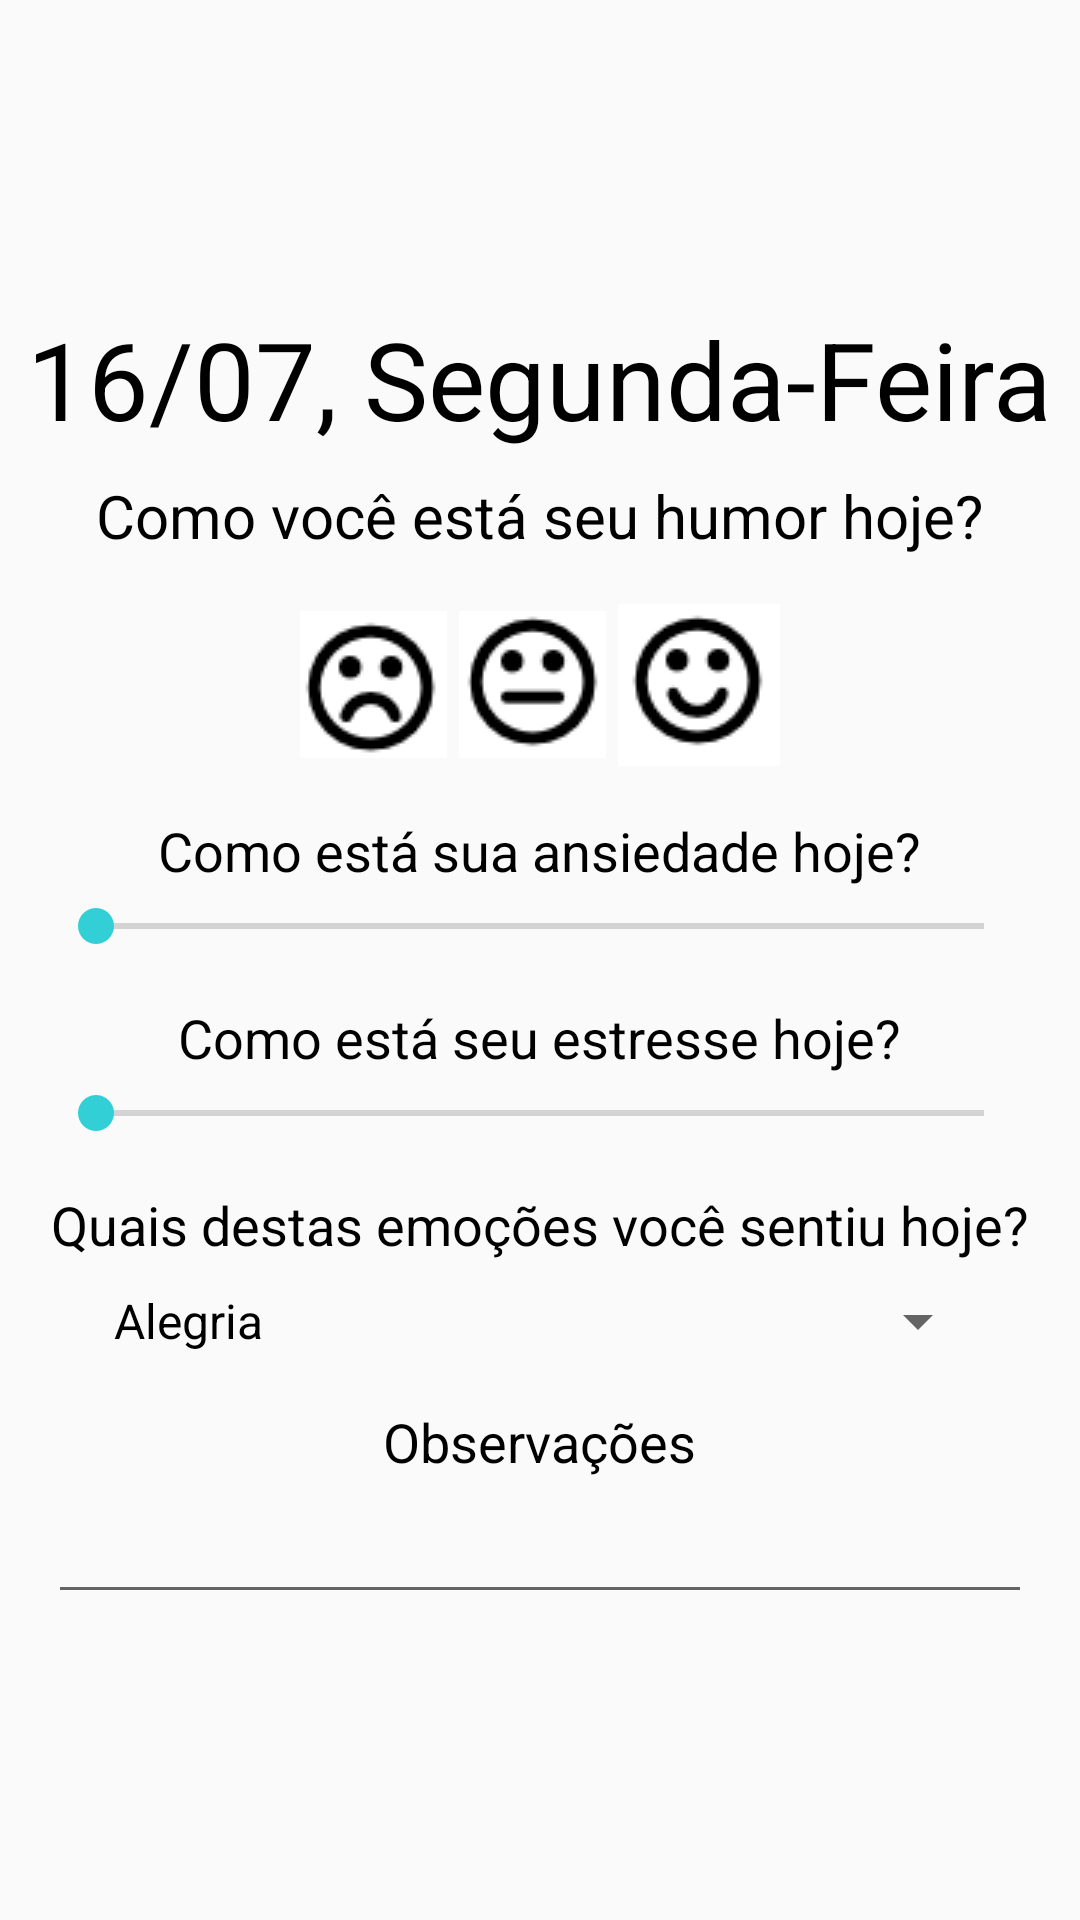

Icon click points for this 1080 x 1920 phone screenshot, format point (x, y):
happy: point (698, 681)
okay: point (533, 682)
sad: point (371, 688)
